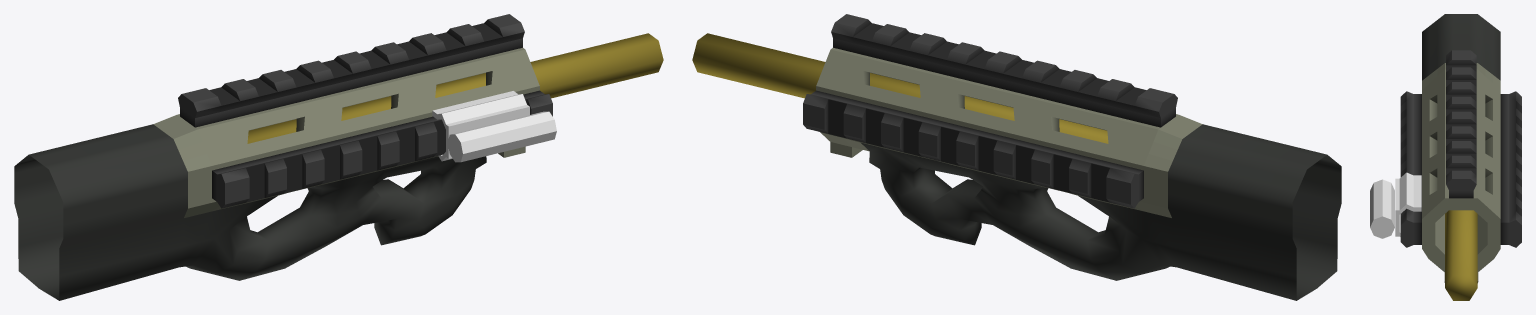
File: sbr.glb
3 views of the same model, side by side, from view 1: azimuth 30°, elevation 25°; view 2: azimuth 150°, elevation 25°; view 3: azimuth 270°, elevation 25° (orthographic). The views are drawn at different scales.
Visible parts, largest first — view 1: Cylinder.001, Cylinder, Cylinder.002, Cube; view 2: Cylinder.001, Cylinder; view 3: Cylinder.001, Cylinder, Cylinder.002, Cube.
Part boxes in pixels (left/top/right/bottom): Cylinder.001: left=14, top=14, right=552, bottom=300; Cylinder: left=247, top=33, right=663, bottom=143; Cylinder.002: left=447, top=111, right=556, bottom=162; Cube: left=432, top=91, right=529, bottom=161; Cylinder.001: left=803, top=14, right=1341, bottom=300; Cylinder: left=692, top=33, right=1108, bottom=143; Cylinder.001: left=1400, top=14, right=1521, bottom=282; Cylinder: left=1445, top=210, right=1477, bottom=300; Cylinder.002: left=1370, top=179, right=1394, bottom=238; Cube: left=1395, top=172, right=1421, bottom=236.
Bounding box in the file's own units: 5.16 × 1.57 × 1.37.
